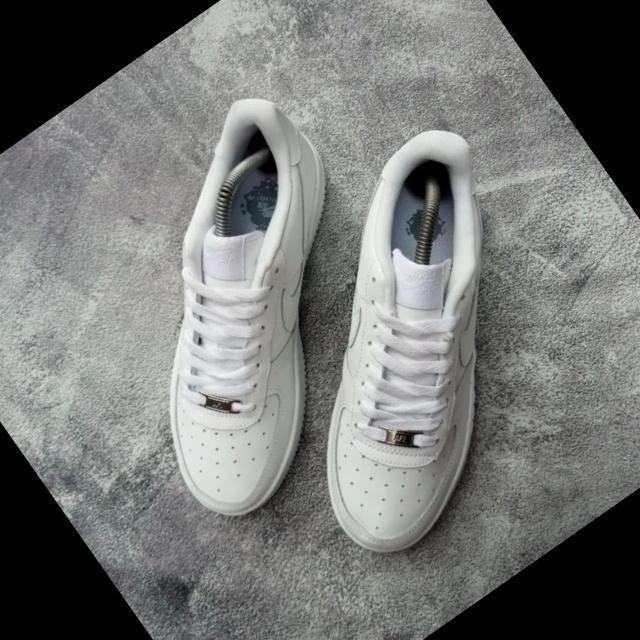nike fake air force: (171, 104, 640, 584), (20, 74, 476, 536)
